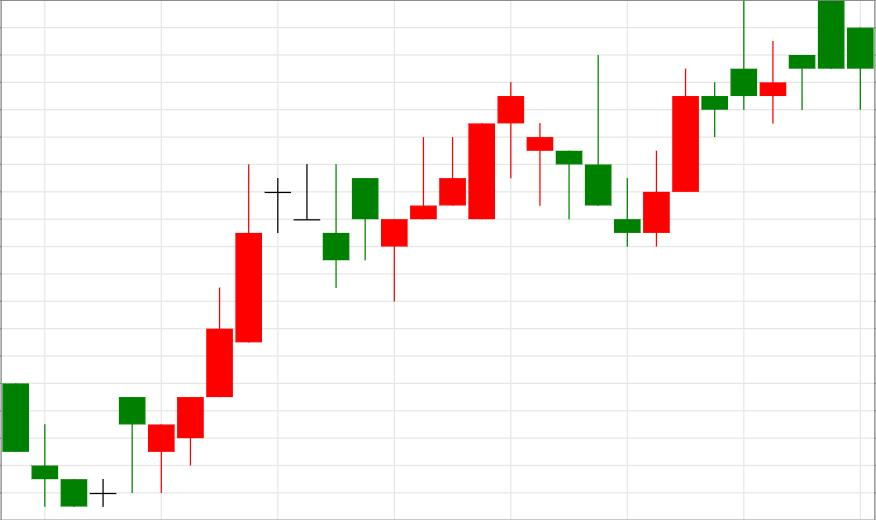bullish_engulfing_rise: (497, 55, 669, 246)
